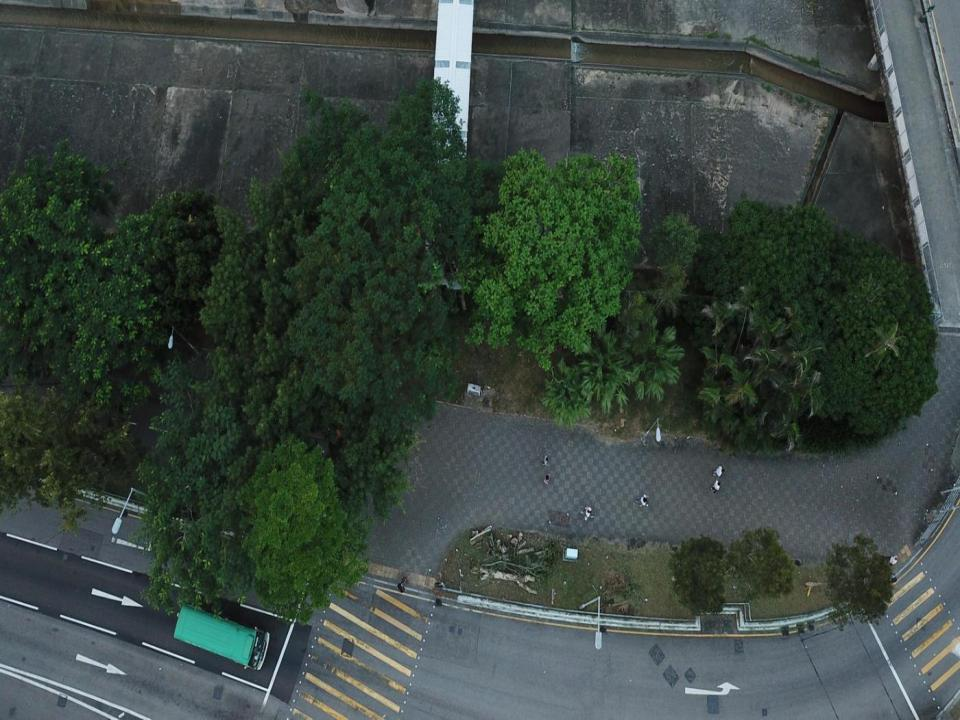bus: (173, 603, 269, 671)
